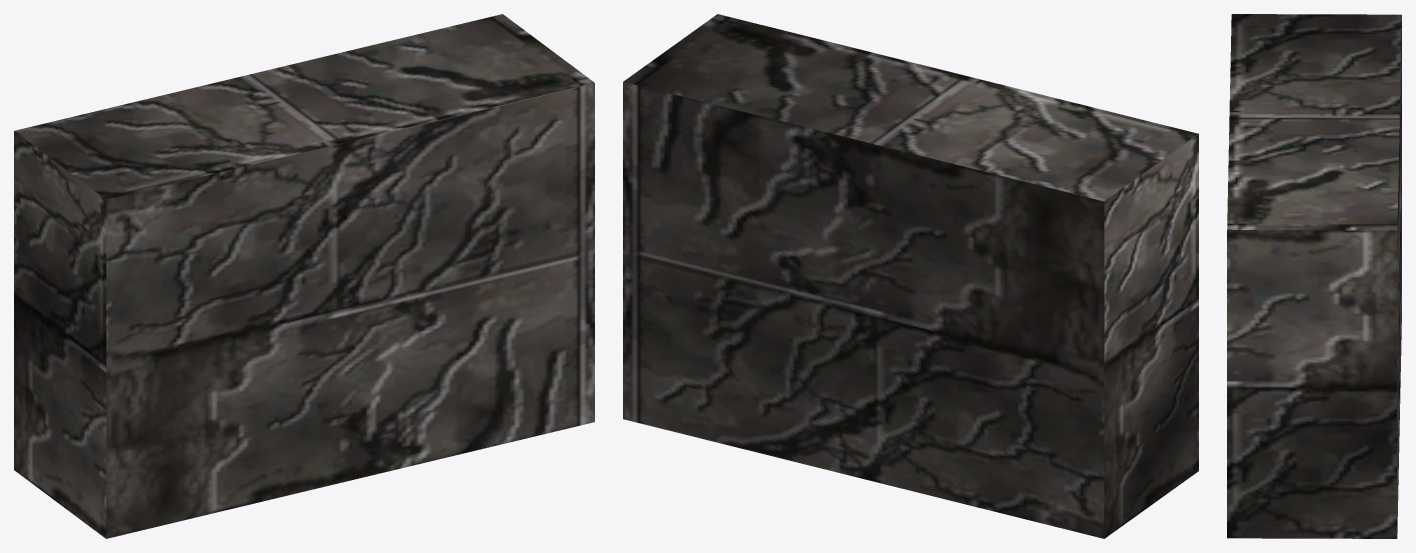
File: INST_SM_DEBRIS_BLOCK_SMALLE.fbx
The picture shows the model from 3 angles, left to right: view 1: azimuth 30°, elevation 25°; view 2: azimuth 150°, elevation 25°; view 3: azimuth 270°, elevation 25°; orthographic projection. The views are drawn at different scales.
Visible parts, largest first — view 1: INST_SM_DEBRIS_BLOCK_SMALLE; view 2: INST_SM_DEBRIS_BLOCK_SMALLE; view 3: INST_SM_DEBRIS_BLOCK_SMALLE.
Part boxes in pixels (x1,y1,x2,y2): INST_SM_DEBRIS_BLOCK_SMALLE: (14, 14, 594, 538); INST_SM_DEBRIS_BLOCK_SMALLE: (623, 14, 1198, 538); INST_SM_DEBRIS_BLOCK_SMALLE: (1227, 14, 1401, 538).
Size of the model in its own units: 30086 by 20000 by 10261.
1 material, 1 textured.
